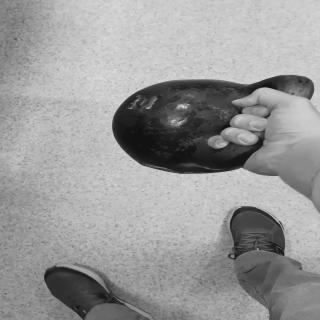kettlebell: (113, 73, 314, 175)
